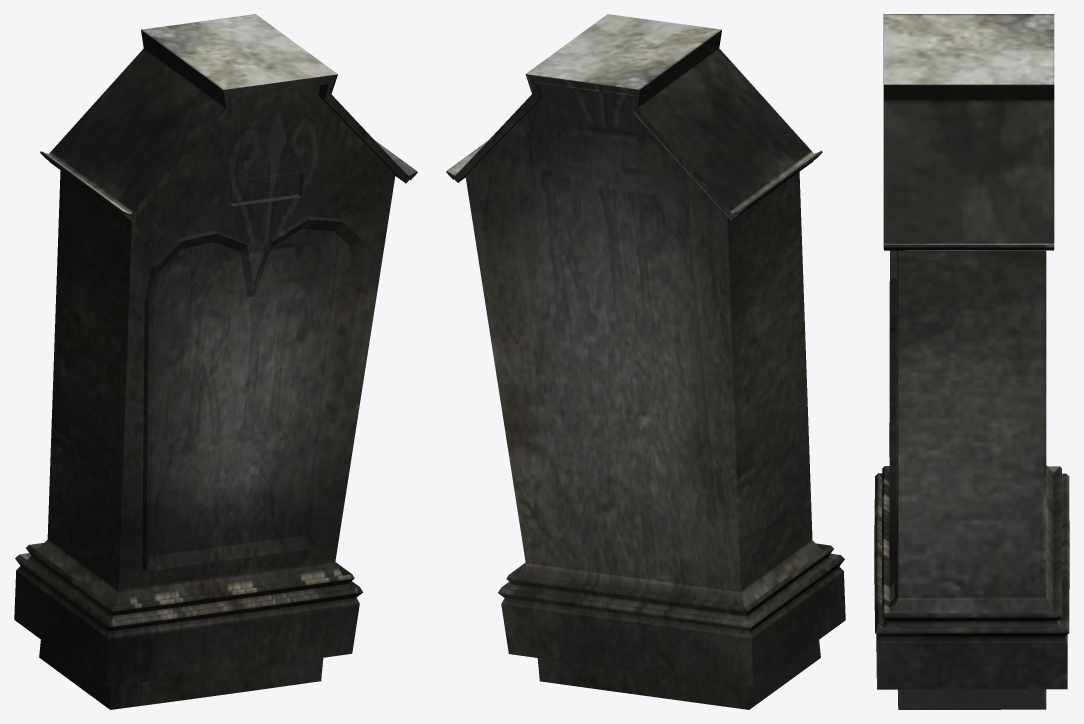
Rendered from graveB.fbx.
3 renders of one model, left to right at view 1: azimuth 30°, elevation 25°; view 2: azimuth 150°, elevation 25°; view 3: azimuth 270°, elevation 25°, orthographic. The views are drawn at different scales.
Visible parts, largest first — view 1: polySurface2261; view 2: polySurface2261; view 3: polySurface2261.
Part boxes in pixels (x1,y1,x2,y2): polySurface2261: (14,14,417,709); polySurface2261: (446,14,845,709); polySurface2261: (874,14,1069,709).
Size of the model in its own units: 3.51 by 6.62 by 1.82.
